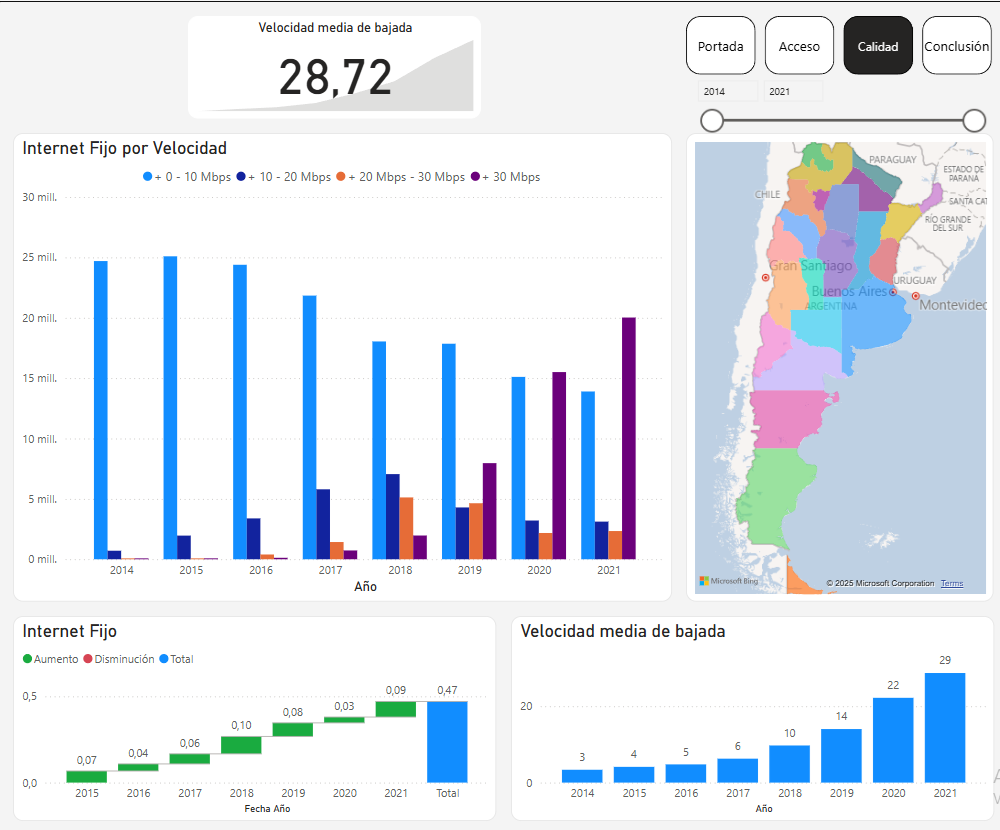

Layout of this report page (visuals, bound fields, positions):
{"tool":"powerbi","page":{"name":"Calidad","canvas":[1100,910],"ordinal":2},"visuals":[{"type":"filledMap","fields":{"Category":["dim_provincia.ProvinciaPais"],"Series":["dim_provincia.Provincia"]},"box":[752,144,336,512],"z":0},{"type":"slicer","fields":{"Values":["internet.Año"]},"box":[752,80,336,80],"z":1000},{"type":"pageNavigator","box":[752,16,336,64],"z":2000},{"type":"clusteredColumnChart","title":"Internet Fijo por Velocidad","fields":{"Category":["internet.Año"],"Y":["Sum(internet.+ 0 Mbps - 10 Mbps)","Sum(internet.+ 10 Mbps - 20 Mbps)","Sum(internet.+ 20 Mbps - 30 Mbps)","Sum(internet.+ 30 Mbps)"]},"box":[16,144,720,512],"z":3000},{"type":"waterfallChart","title":"Internet Fijo","fields":{"Category":["internet.Fecha.Variación.Jerarquía de fechas.Año"],"Y":["internet.Total_aumento_%"]},"box":[16,672,528,224],"z":4000},{"type":"columnChart","title":"Velocidad media de bajada","fields":{"Category":["internet.Año"],"Y":["Avg(internet.Mbps Media de bajada)"]},"box":[560,672,528,224],"z":5000},{"type":"kpi","title":"Velocidad media de bajada","fields":{"TrendLine":["internet.Año"],"Indicator":["Avg(internet.Mbps Media de bajada)"]},"box":[208,16,320,112],"z":6000}]}

Visuals, with their boxes in screenshot pixels (x1, y1, x2, y2), scaled from the page's 1100x910 canvas onto the 1000x830 screenshot:
filledMap - dim_provincia.ProvinciaPais x dim_provincia.Provincia: 684, 131, 989, 598
slicer - internet.Año: 684, 73, 989, 146
pageNavigator: 684, 15, 989, 73
"Internet Fijo por Velocidad" clusteredColumnChart: 15, 131, 669, 598
"Internet Fijo" waterfallChart: 15, 613, 495, 817
"Velocidad media de bajada" columnChart: 509, 613, 989, 817
"Velocidad media de bajada" kpi: 189, 15, 480, 117
